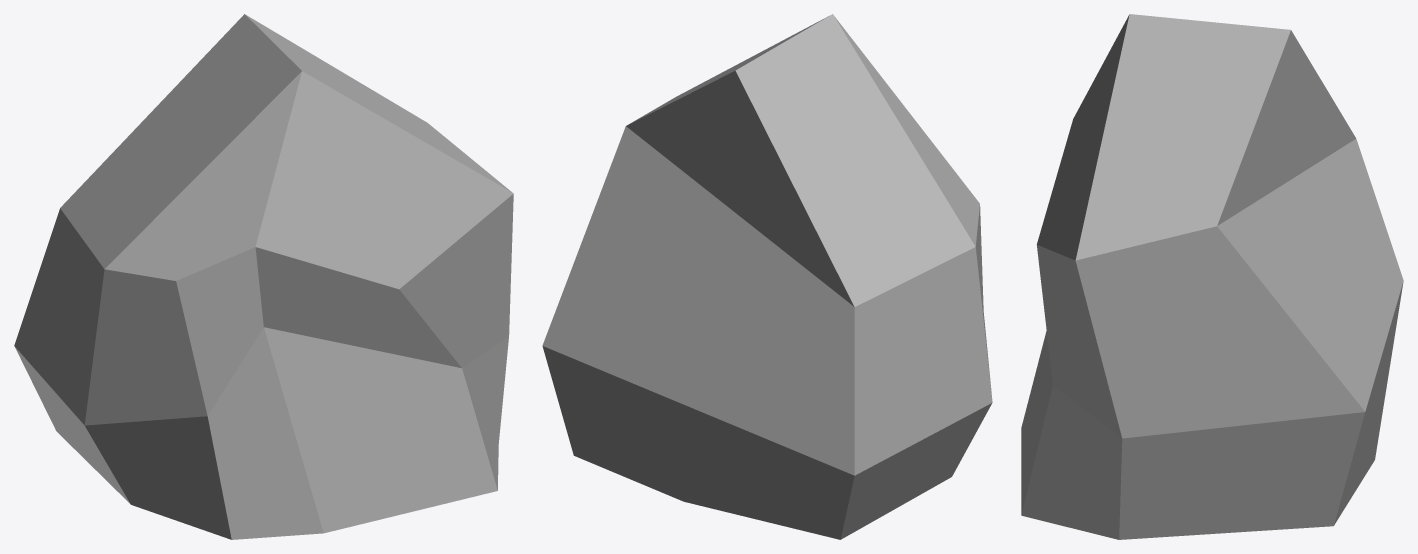
File: rock_06_00.fbx
3 views of the same model, side by side, from view 1: azimuth 30°, elevation 25°; view 2: azimuth 150°, elevation 25°; view 3: azimuth 270°, elevation 25° (orthographic). The views are drawn at different scales.
Visible parts, largest first — view 1: rock; view 2: rock; view 3: rock.
Boxes of the visible parts, x1,y1,x2,y2 form: rock: (14, 14, 513, 539); rock: (542, 14, 992, 539); rock: (1021, 14, 1403, 539).
Bounding box in the file's own units: 293 × 296 × 239.
